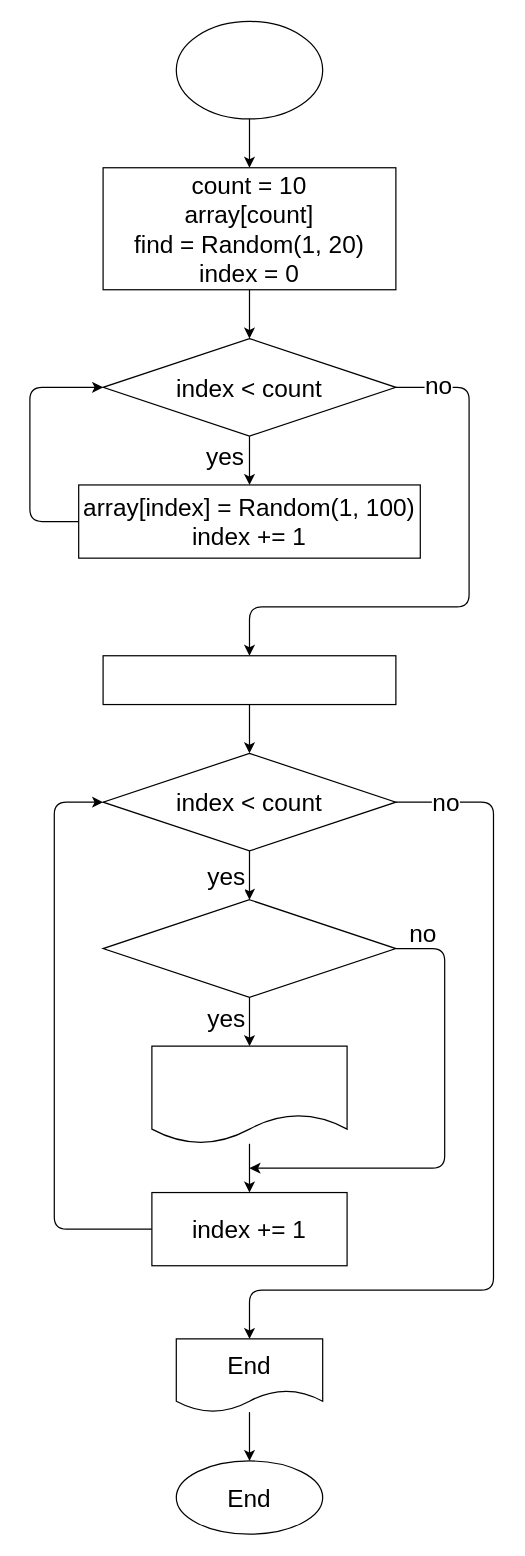
The diagram is 525 pixels wide and 1556 high, and some of its shapes have lost their labels. The shapes that lost their labels are listed below. From the top down, each one's centre as x and y in pixels, then its label:
At point 249,69: "Start".
At point 249,680: "index = 0".
At point 249,948: "array[index] == find".
At point 249,1094: "Число find найдено".
